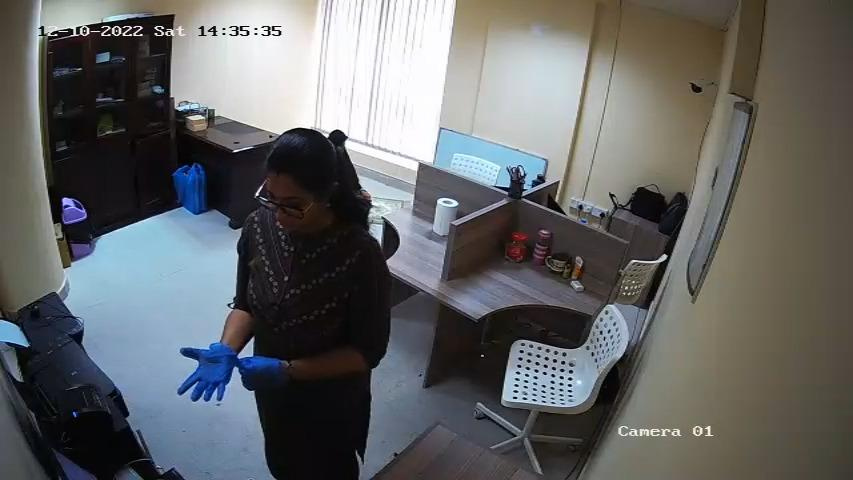gloves: (177, 338, 238, 404), (241, 345, 279, 399)
